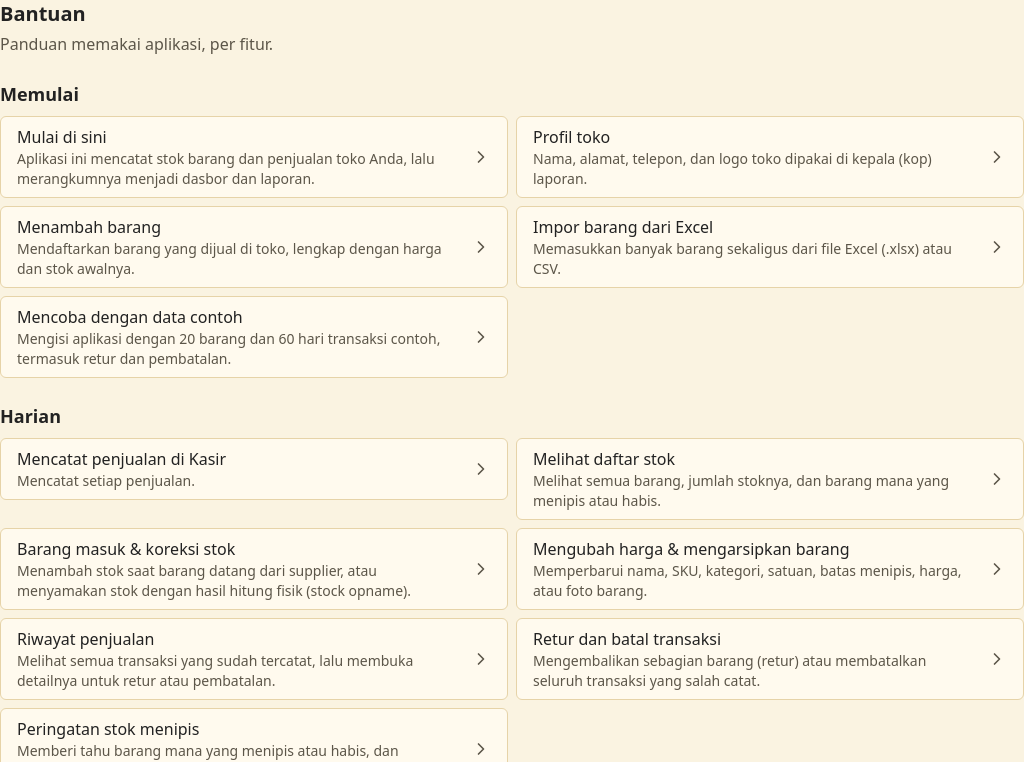
Scenario: halaman topik › mengetuk baris topik membuka modal di halaman Bantuan tanpa pindah halaman
Click the link "Profil toko" at (770, 157), box [516,116,1023,198]
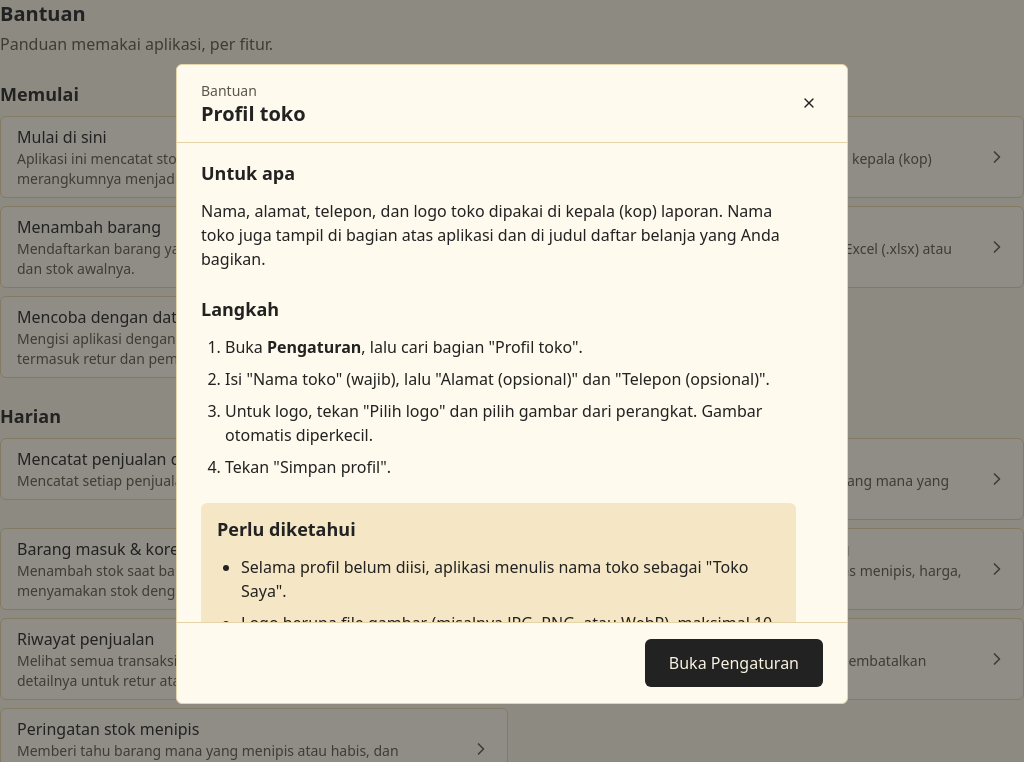
Expected: the heading "Bantuan" is shown, [0,0,86,27]
Expected: the link "Buka Pengaturan" is shown, [645,639,823,687]
Click the button named "Tutup" at (809, 103), box [787,81,831,125]
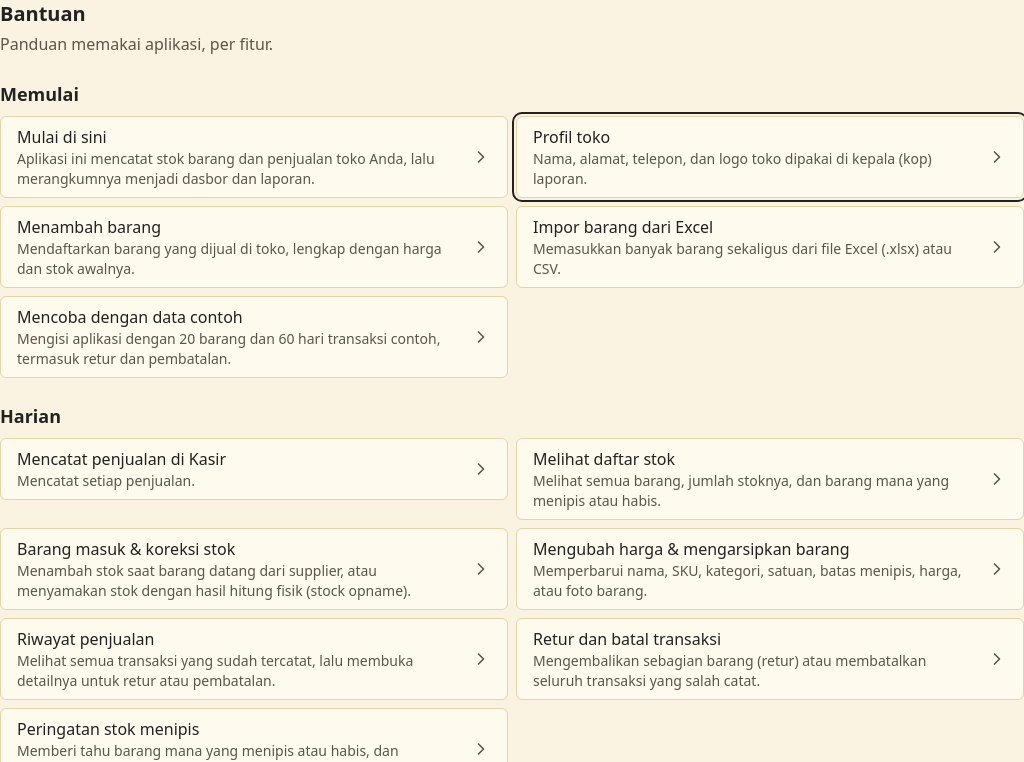
Expected: the dialog is gone
